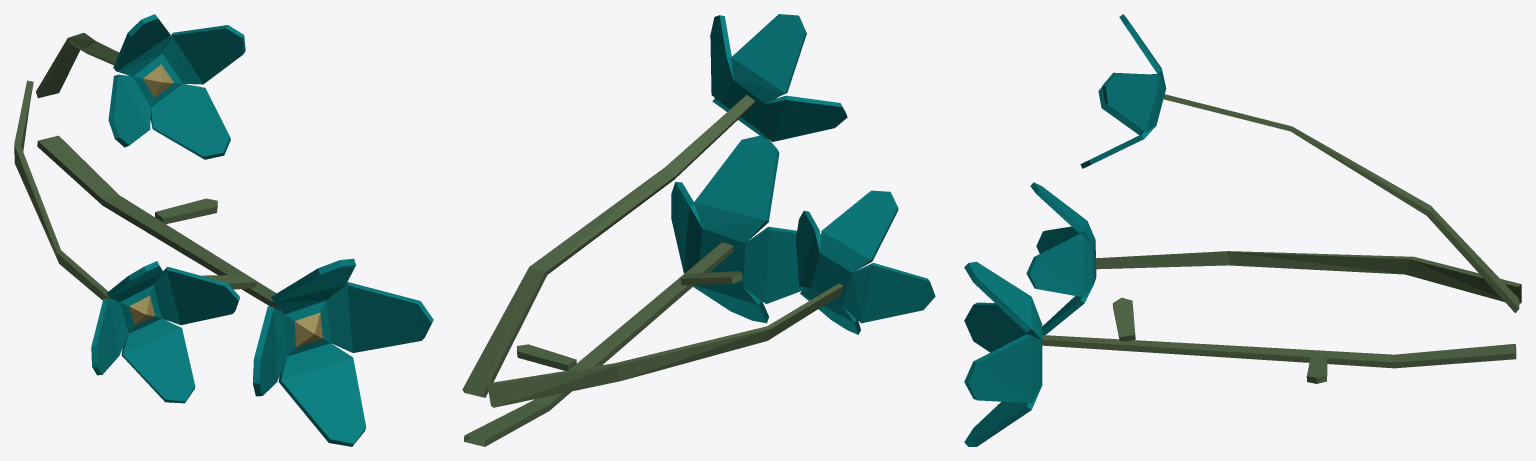
Rendered from flowers.obj.
3 views of the same model, side by side, from view 1: azimuth 30°, elevation 25°; view 2: azimuth 150°, elevation 25°; view 3: azimuth 270°, elevation 25° (orthographic). The views are drawn at different scales.
Visible parts, largest first — view 1: flowers; view 2: flowers; view 3: flowers.
Part boxes in pixels (box(x1,y1,x2,y2)): flowers: box(14, 14, 433, 446); flowers: box(462, 14, 935, 446); flowers: box(964, 14, 1521, 446).
Size of the model in its own units: 7.09 by 8.88 by 12.
